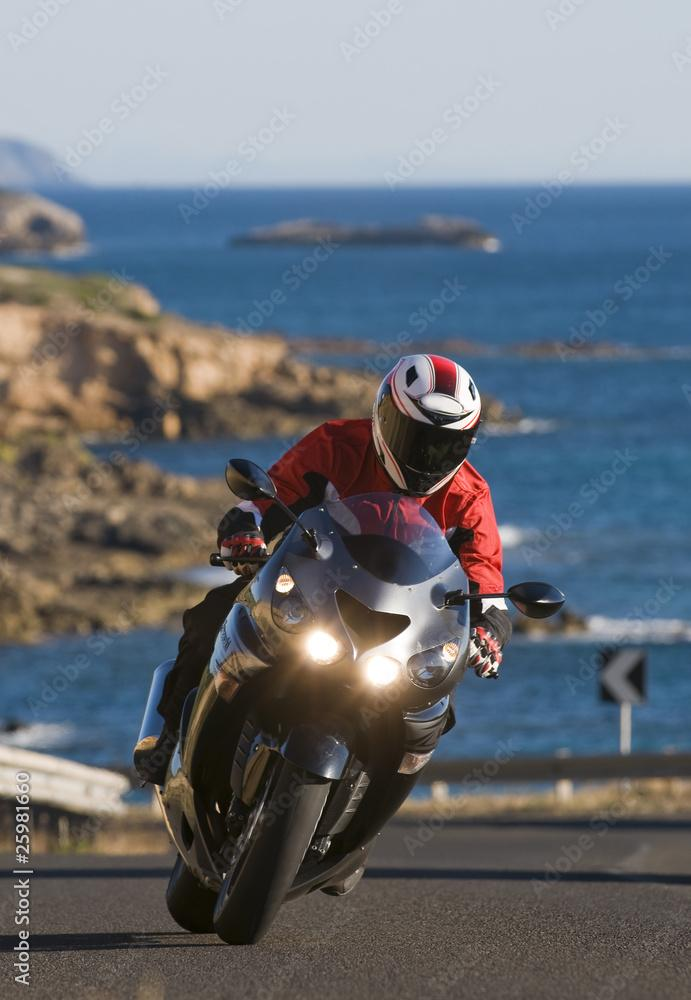helmet: (371, 353, 483, 500)
